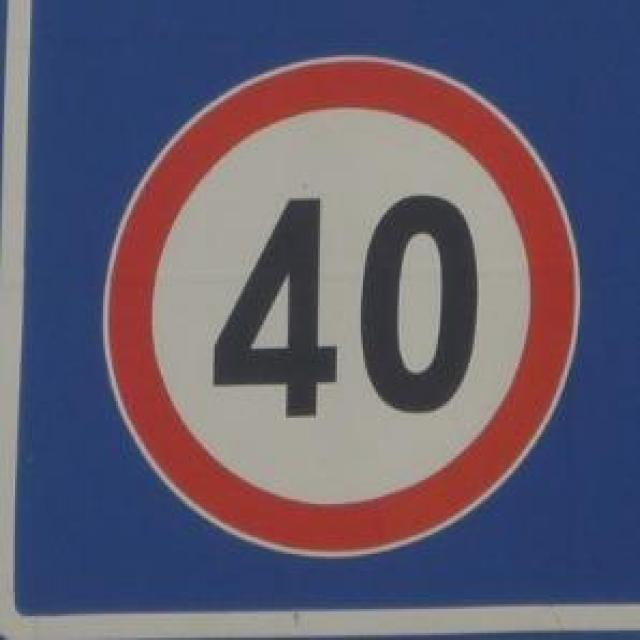speed limit 40: (101, 53, 584, 559)
